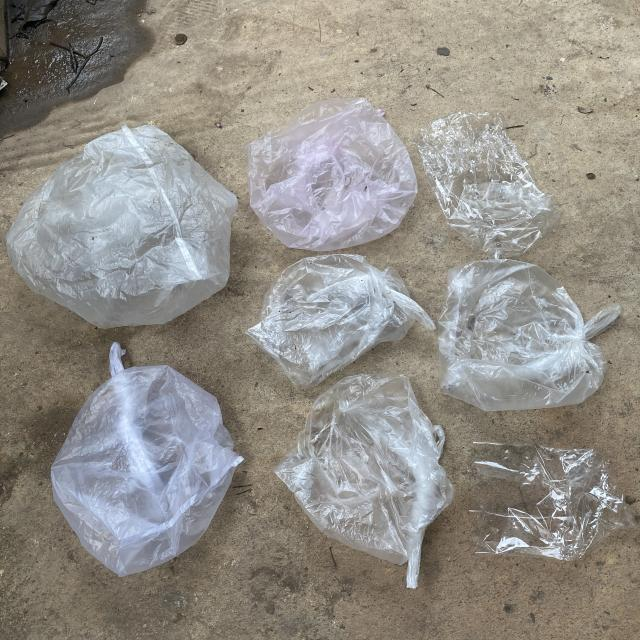Single-layer Plastic: (8, 125, 238, 329), (51, 342, 242, 576), (275, 375, 454, 589), (246, 98, 418, 251), (246, 254, 435, 389), (415, 112, 559, 259), (472, 442, 635, 561)
